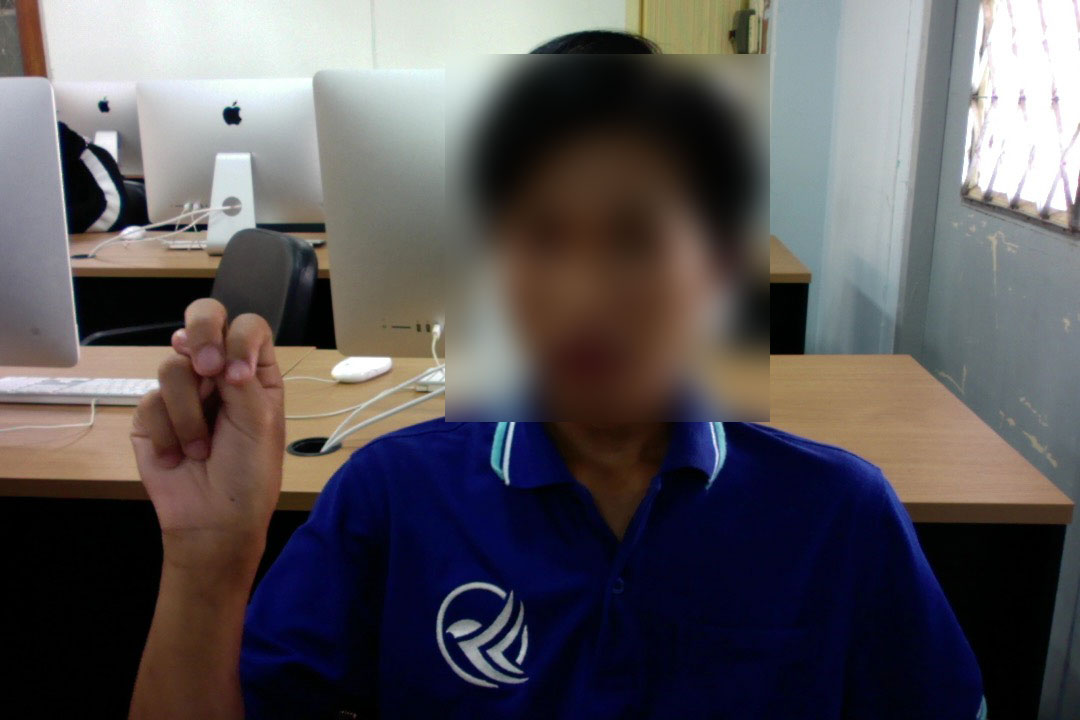nor: (121, 294, 296, 575)
